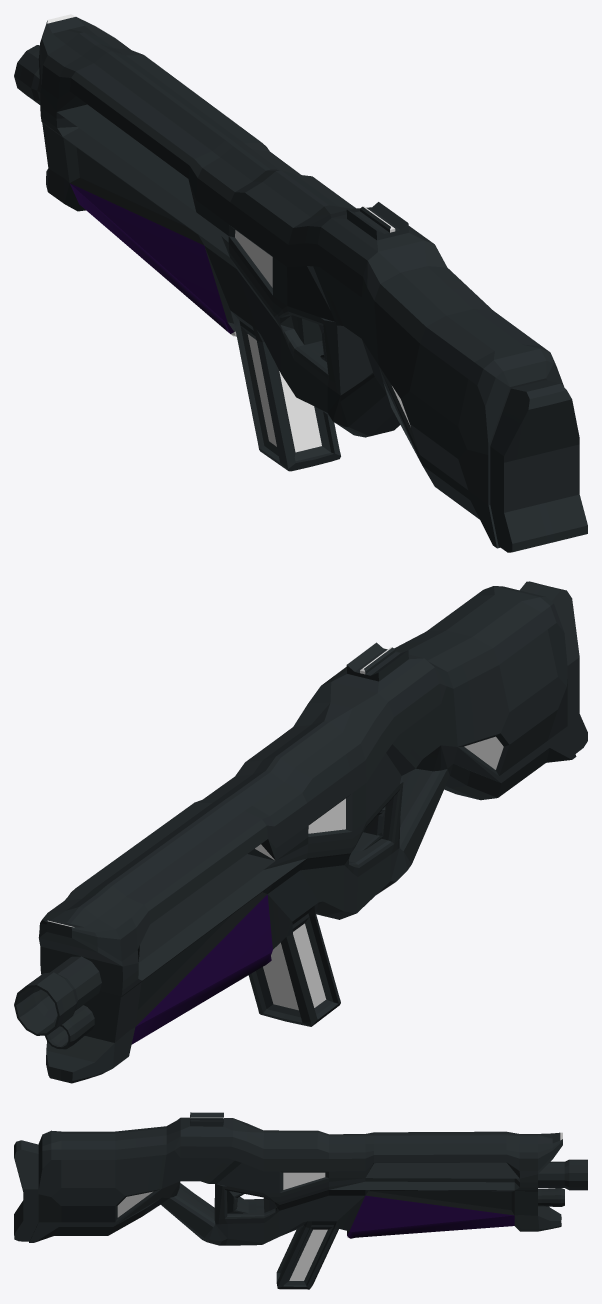
File: kar_mk_2.fbx
3 views of the same model, one above another, from view 1: azimuth 30°, elevation 25°; view 2: azimuth 150°, elevation 25°; view 3: azimuth 270°, elevation 25° (orthographic). The views are drawn at different scales.
Parts seen in each view (by area): view 1: Kar_mk_2; view 2: Kar_mk_2; view 3: Kar_mk_2.
Boxes of the visible parts, x1=… form: Kar_mk_2: x1=14, y1=14, x2=587, y2=552; Kar_mk_2: x1=14, y1=581, x2=587, y2=1083; Kar_mk_2: x1=14, y1=1112, x2=587, y2=1289.
Size of the model in its own units: 11.9 by 34.05 by 106.
